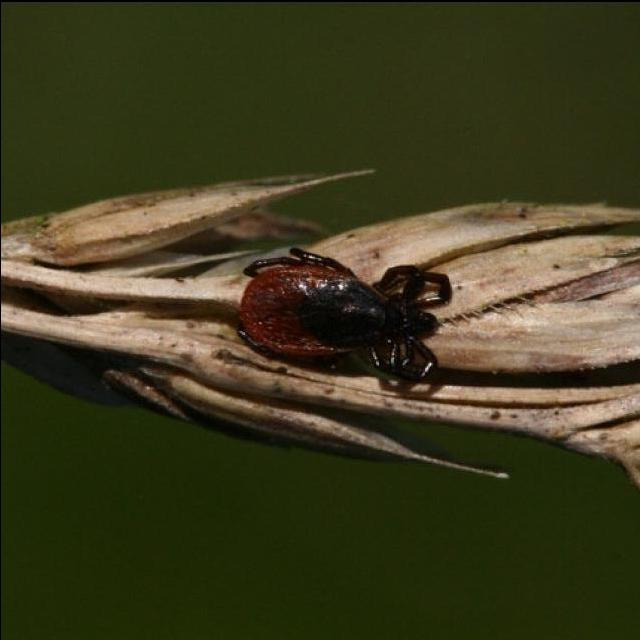Ixodes Ricinus-F: (235, 246, 448, 380)
